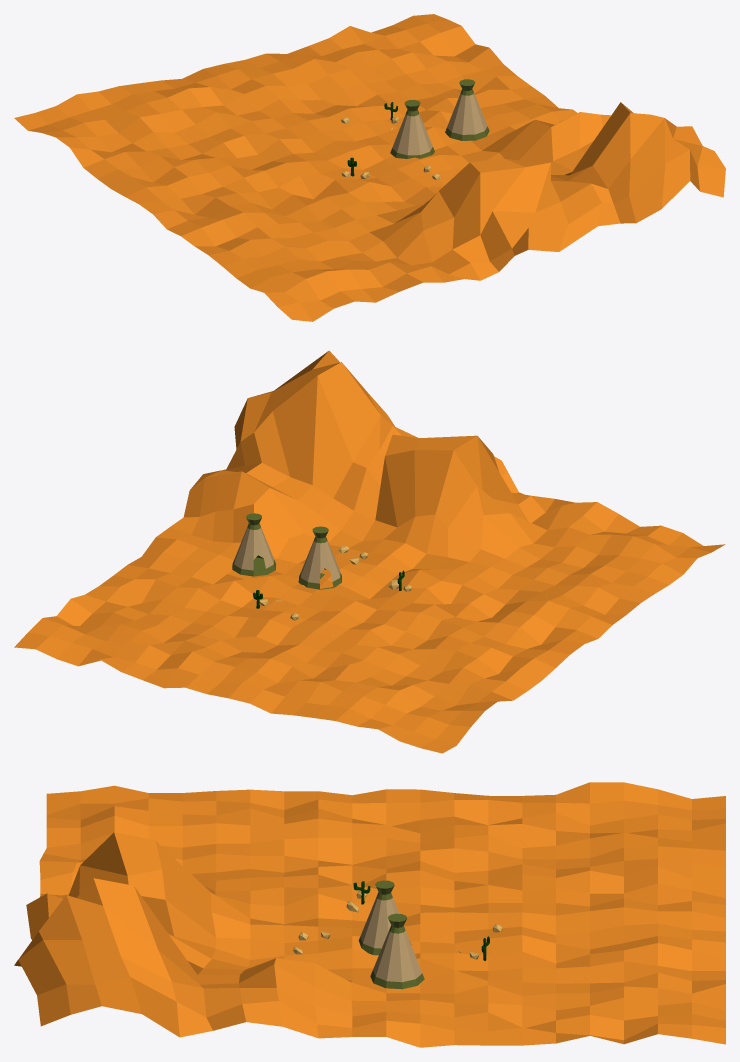
File: desert_map.FBX
3 views of the same model, one above another, from view 1: azimuth 30°, elevation 25°; view 2: azimuth 150°, elevation 25°; view 3: azimuth 270°, elevation 25° (orthographic). The views are drawn at different scales.
Parts seen in each view (by area): view 1: Plane002, Spindle002, Spindle001; view 2: Plane002, Spindle002, Spindle001; view 3: Plane002, Spindle002, Spindle001.
Part boxes in pixels (x1=…): Plane002: x1=14, y1=14, x2=725, y2=321; Spindle002: x1=445, y1=79, x2=489, y2=140; Spindle001: x1=390, y1=99, x2=434, y2=158; Plane002: x1=14, y1=350, x2=725, y2=753; Spindle002: x1=232, y1=513, x2=276, y2=576; Spindle001: x1=298, y1=526, x2=341, y2=589; Plane002: x1=14, y1=782, x2=725, y2=1047; Spindle002: x1=370, y1=913, x2=424, y2=989; Spindle001: x1=358, y1=880, x2=411, y2=955.
Size of the model in its own units: 590 by 143 by 668.
